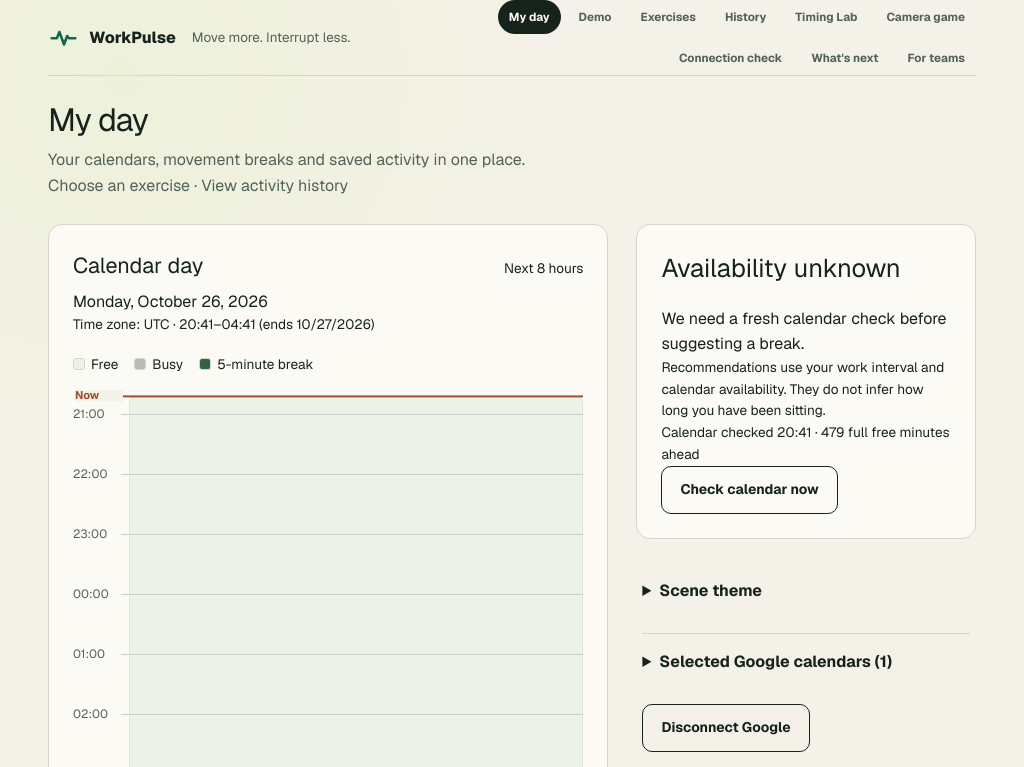
Scenario: calendar-first day assistant › removes the previous forecast and timeline after a failed refresh
Click the button "Check calendar now" at x=750, y=490, box [661,466,838,514]
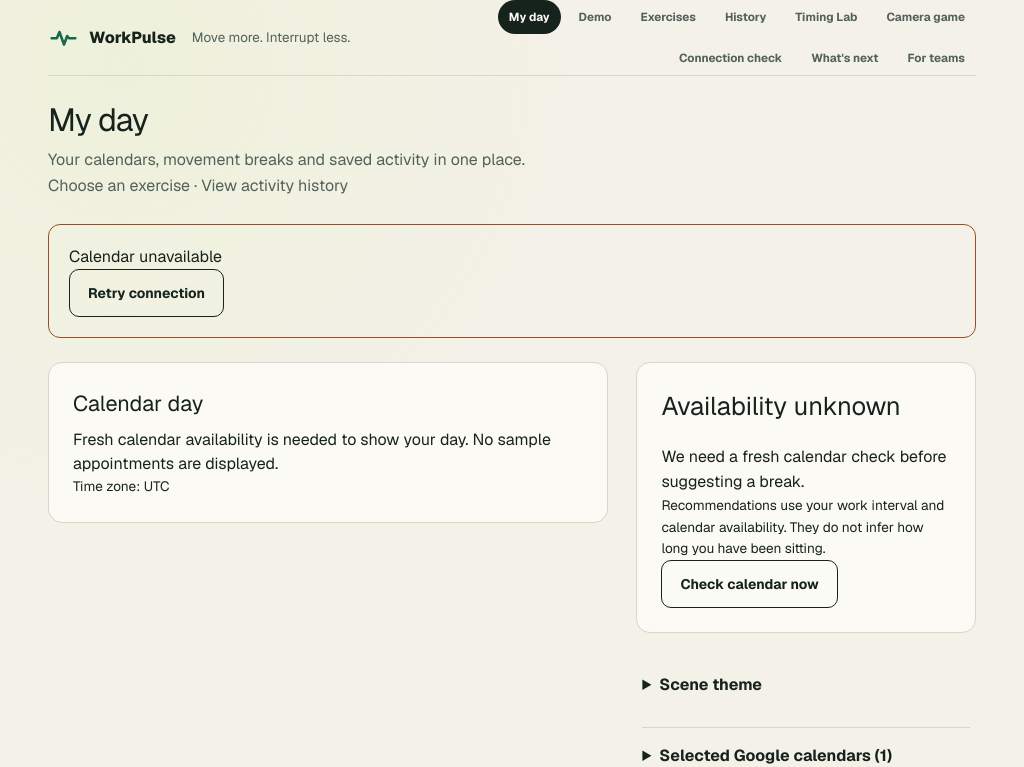
expect the text "Calendar unavailable" is shown: met, box [69,246,222,267]
